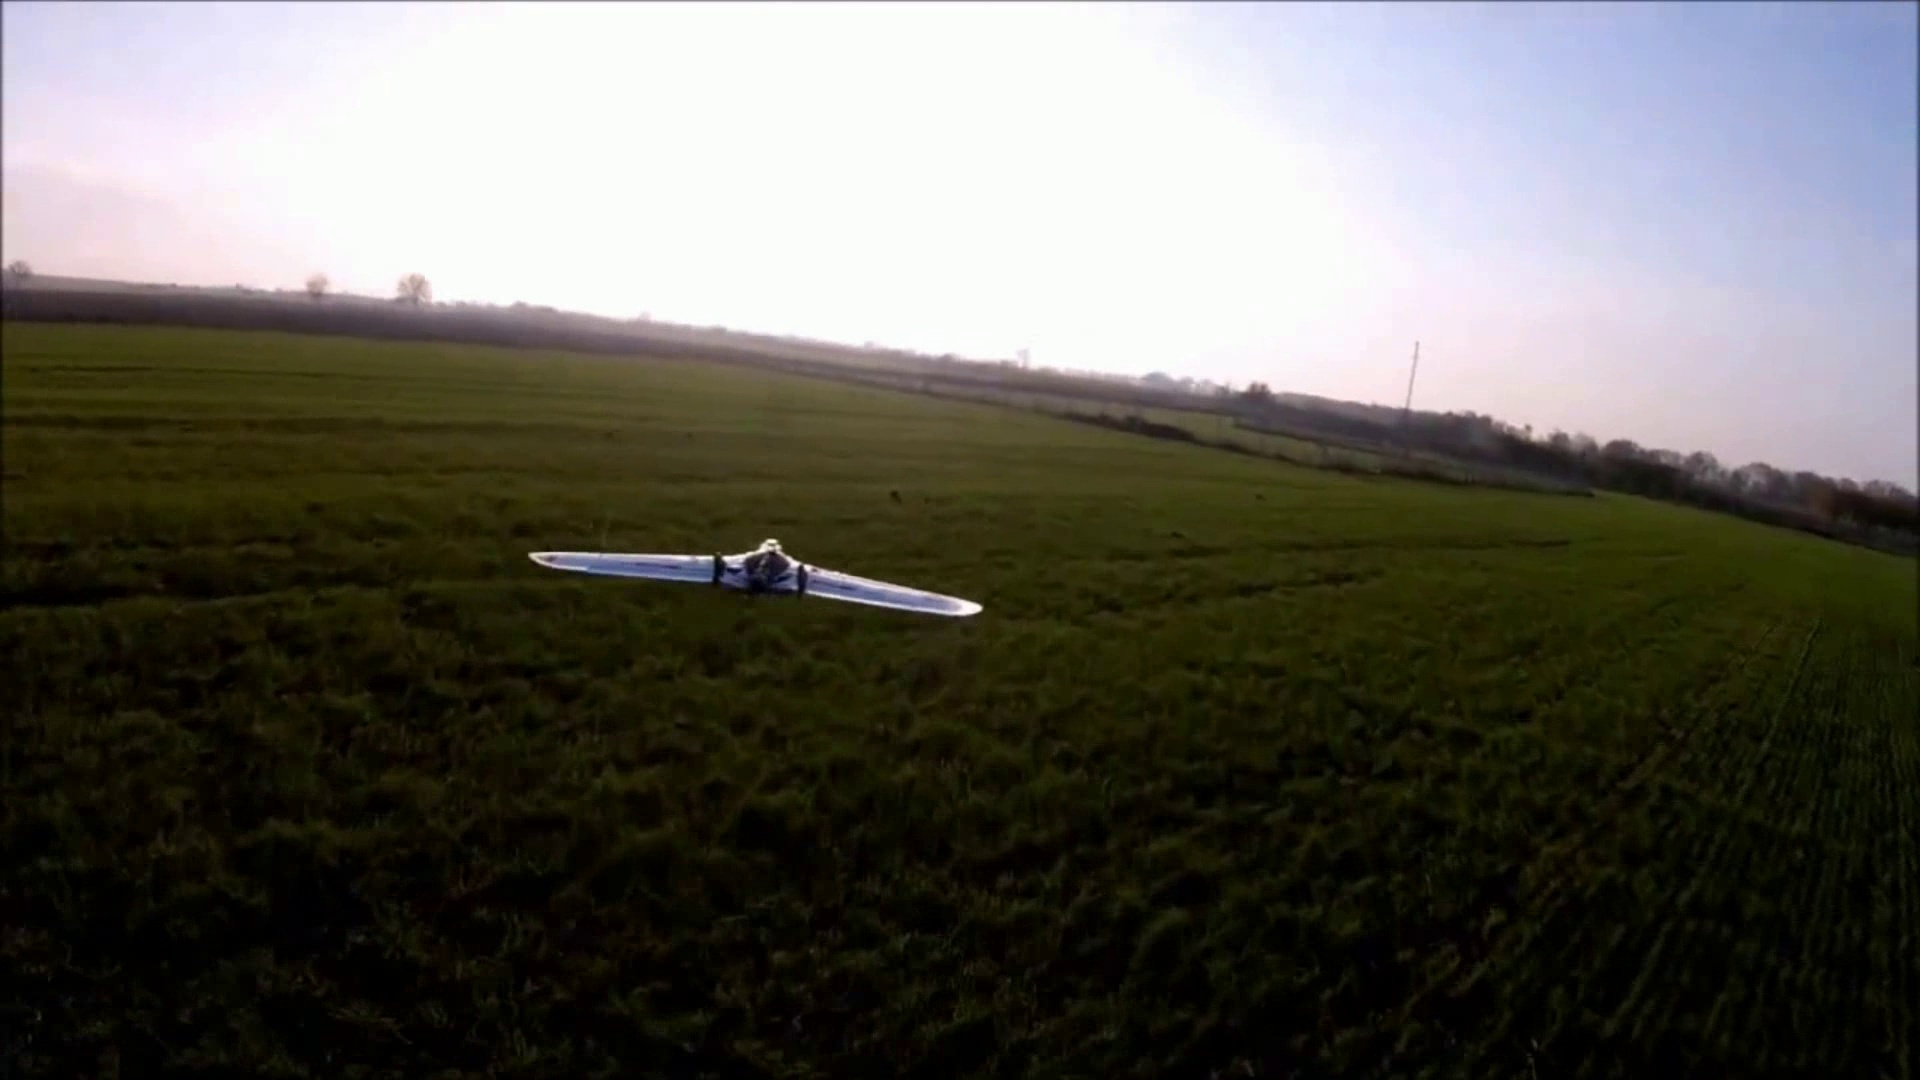airplane: (528, 542, 982, 627)
